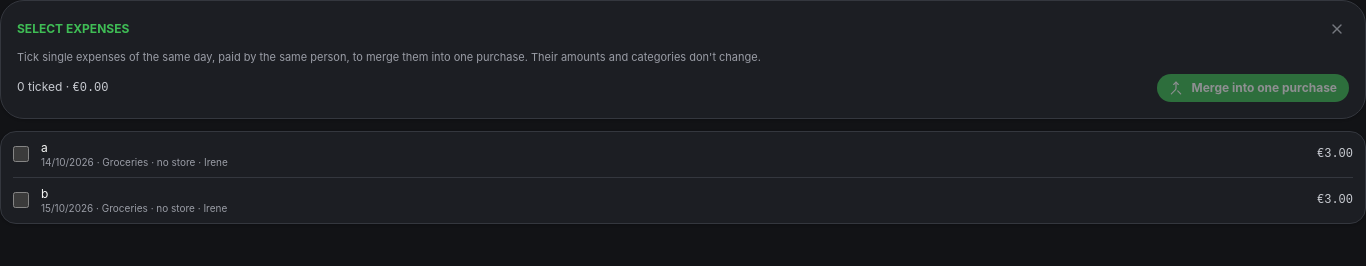
Test: Select → Merge into one purchase › explains why expenses of different days can't be merged
Click the checkbox named "Select a".
click(21, 154)  # box top-left (13, 146), bottom-right (29, 162)
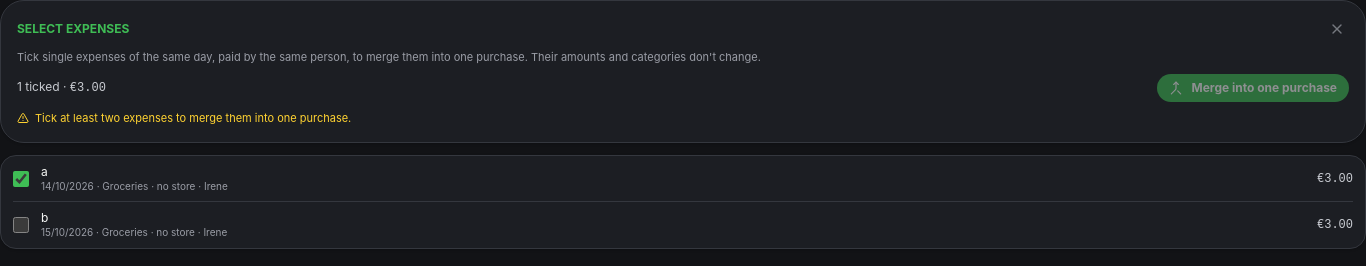
Click the checkbox named "Select b".
click(21, 225)  # box top-left (13, 217), bottom-right (29, 233)
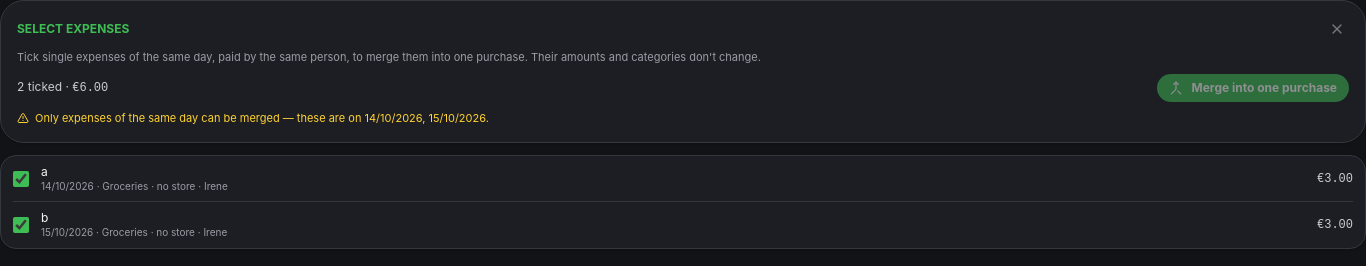
Expected: the button "Merge into one purchase" is disabled, top-left (1158, 74), bottom-right (1349, 102)
Result: the text "Only expenses of the same day can be merged" is shown at top-left (35, 110), bottom-right (489, 124)
